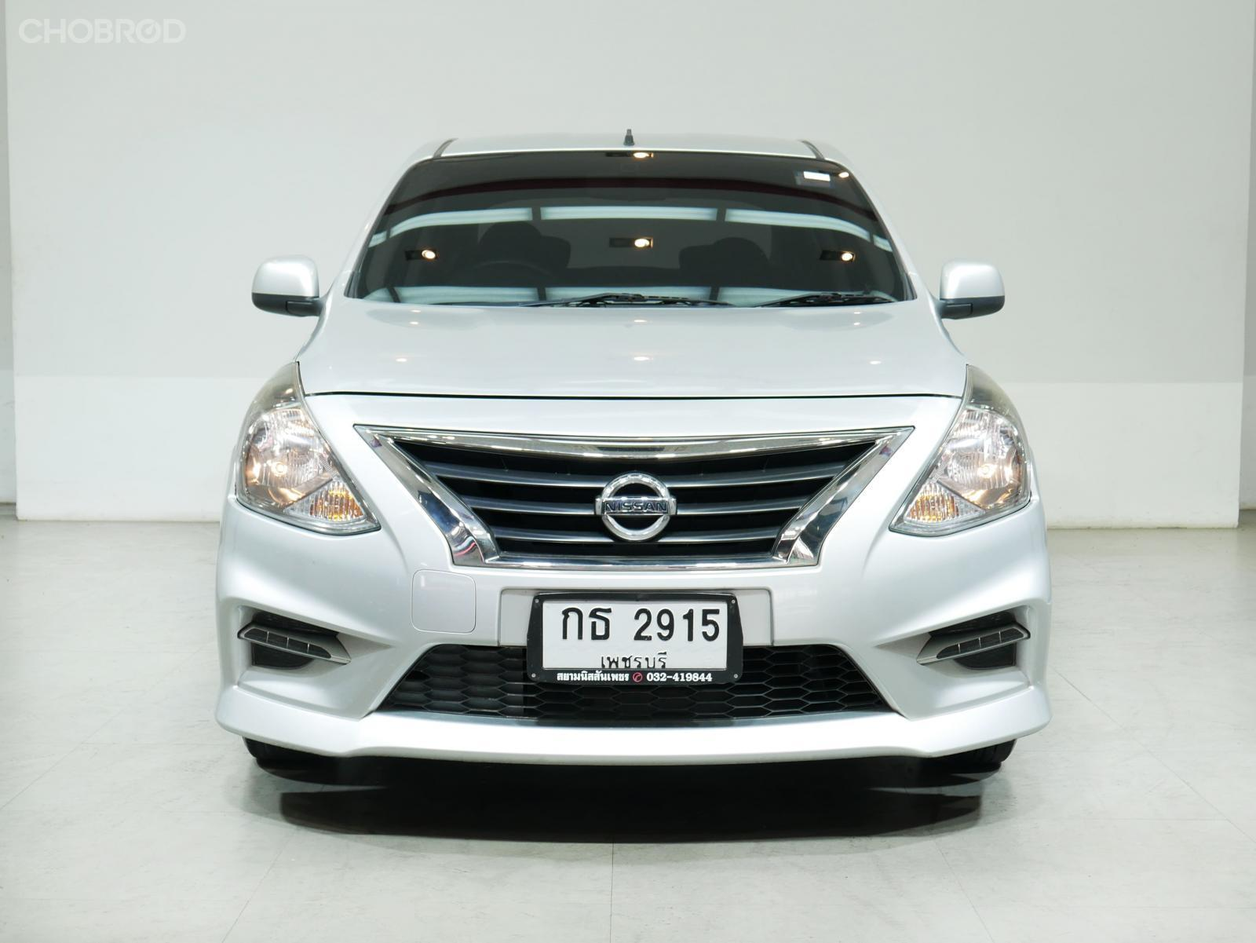license-plate: (529, 589, 749, 690)
